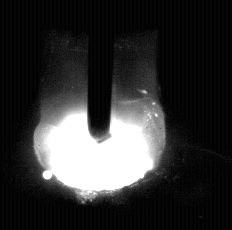arame: (88, 0, 112, 143)
poca: (32, 0, 167, 230)
